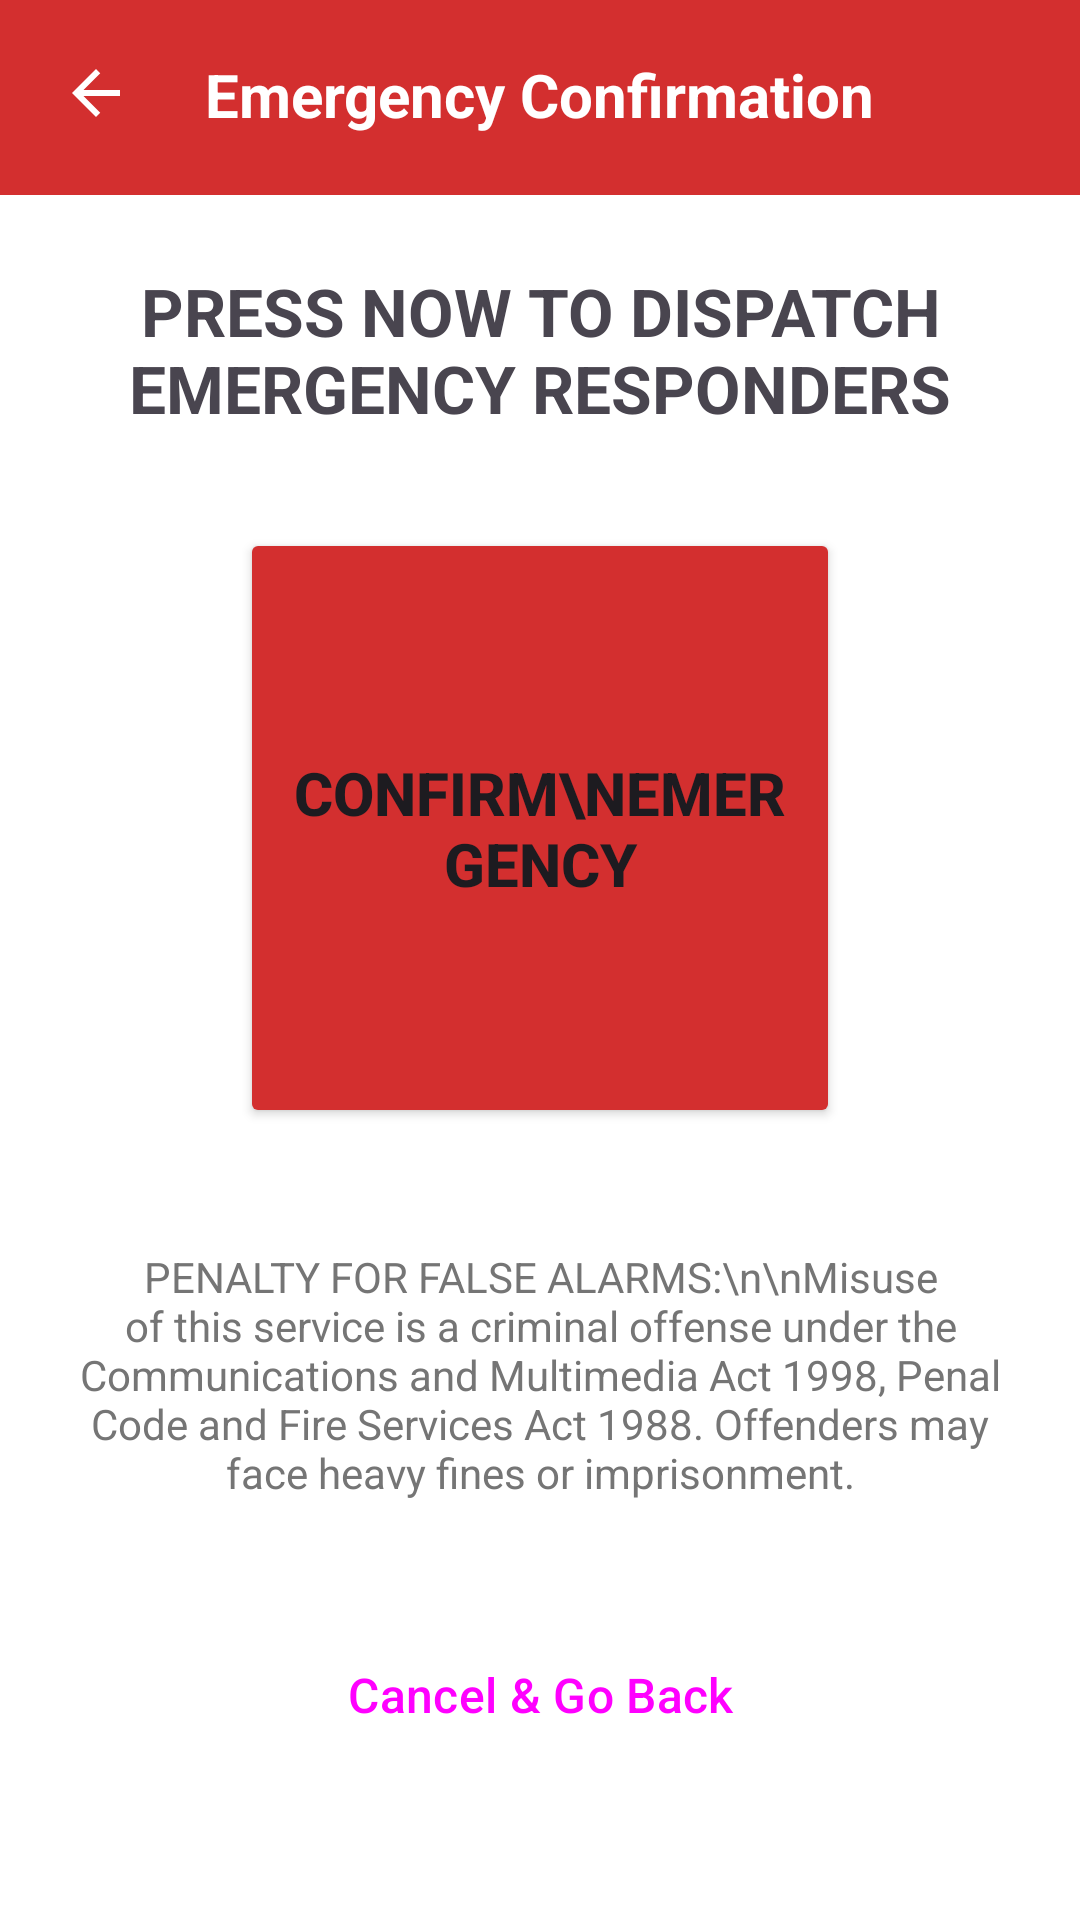

Screen size 1080 × 1920. Icon name, then its center in pixels as (x=x, y=y):
back: (x=96, y=93)
